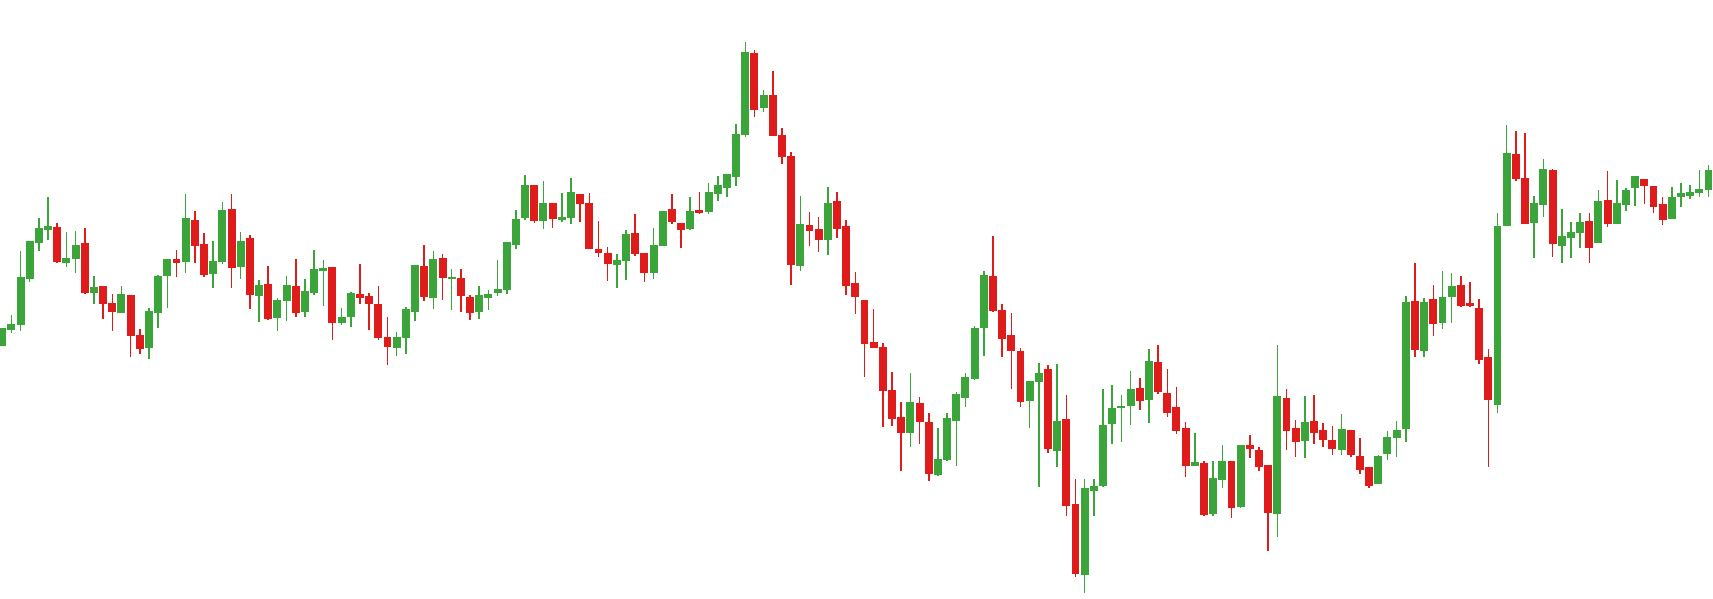buy: (1198, 465, 1286, 557), (328, 280, 411, 373)
